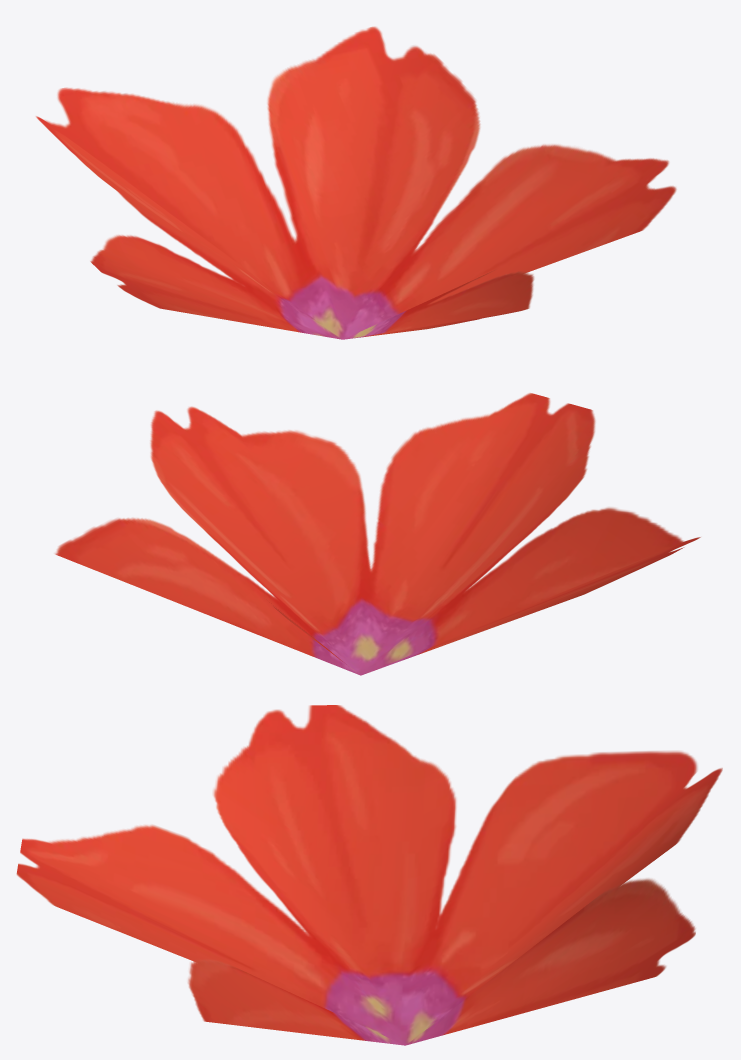
The model's file is flower-petal-3.glb.
3 views of the same model, one above another, from view 1: azimuth 30°, elevation 25°; view 2: azimuth 150°, elevation 25°; view 3: azimuth 270°, elevation 25° (orthographic). The views are drawn at different scales.
Visible parts, largest first — view 1: Petal_3; view 2: Petal_3; view 3: Petal_3.
Part boxes in pixels (<box>): Petal_3: <box>36,26,676,339</box>; Petal_3: <box>55,393,700,675</box>; Petal_3: <box>16,705,722,1045</box>.
Size of the model in its own units: 0.6195 by 0.1895 by 0.6064.
Materials: 1 (1 with a texture image).
